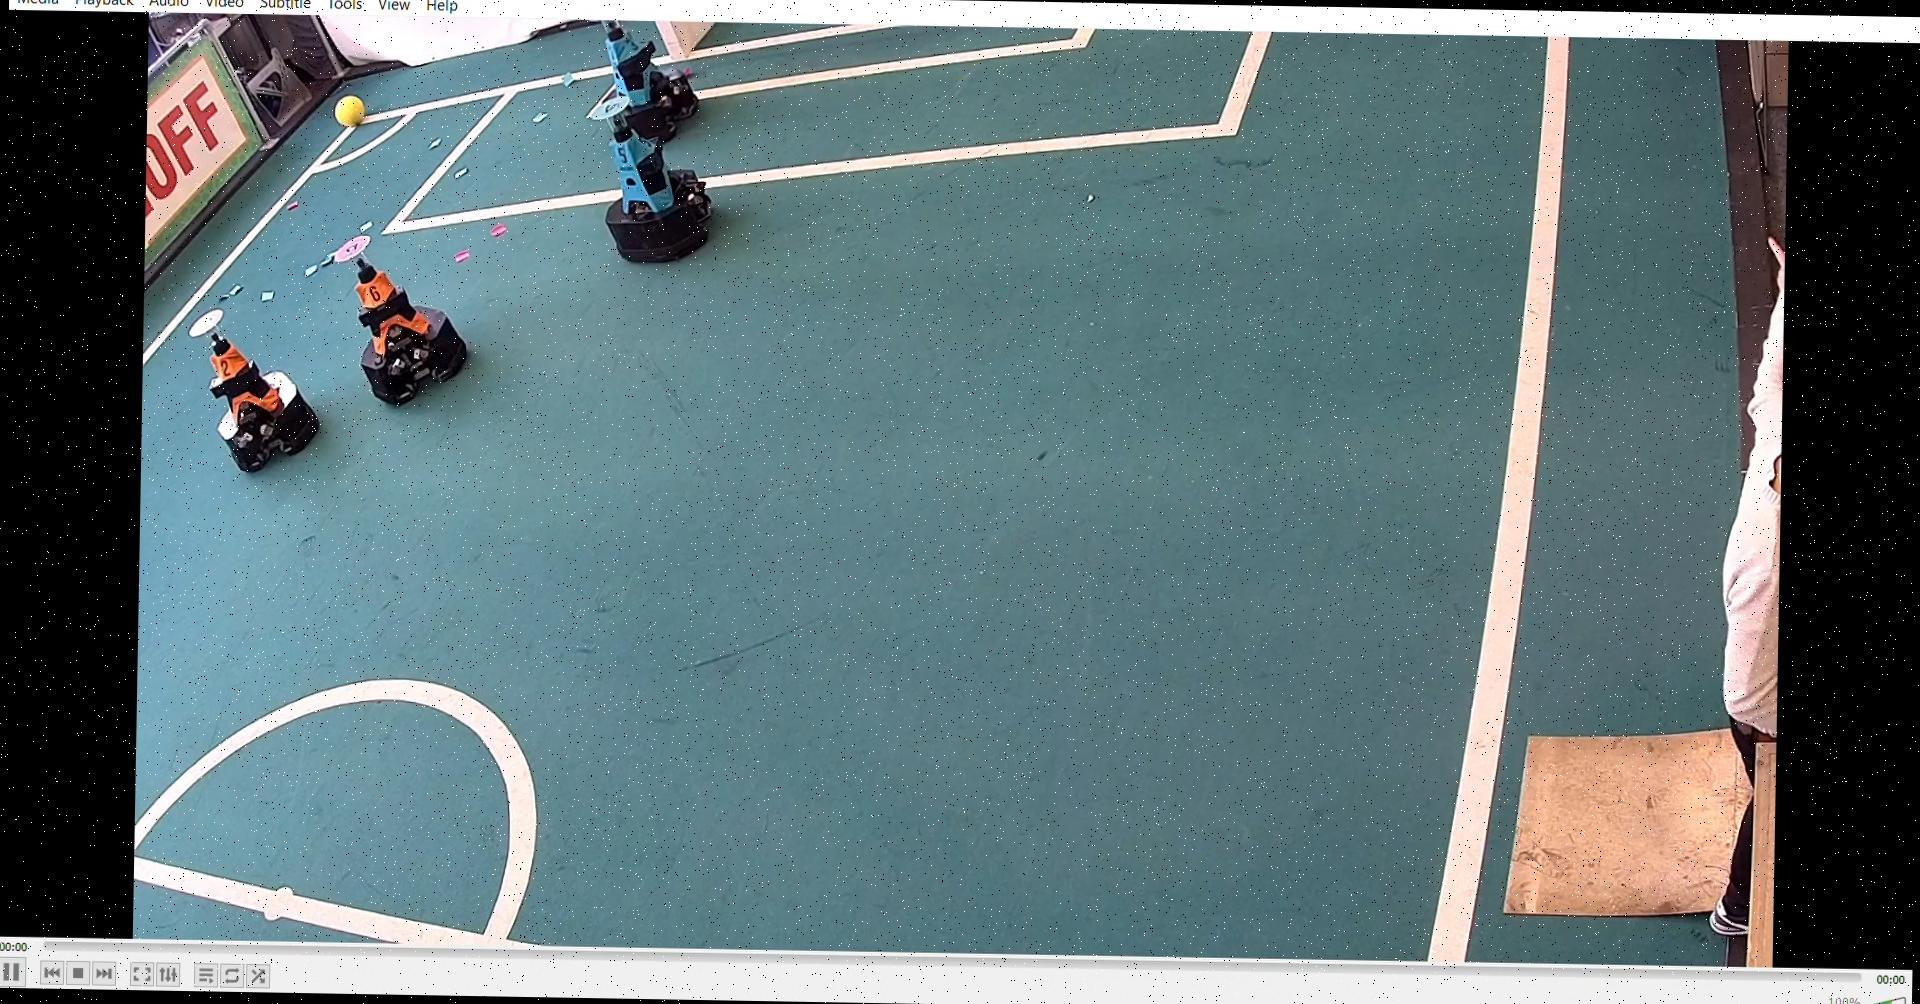Ball: (340, 93, 376, 126)
Team_Blue: (582, 61, 733, 260), (583, 29, 710, 155)
Team_Red: (325, 223, 472, 405), (183, 302, 324, 476)
